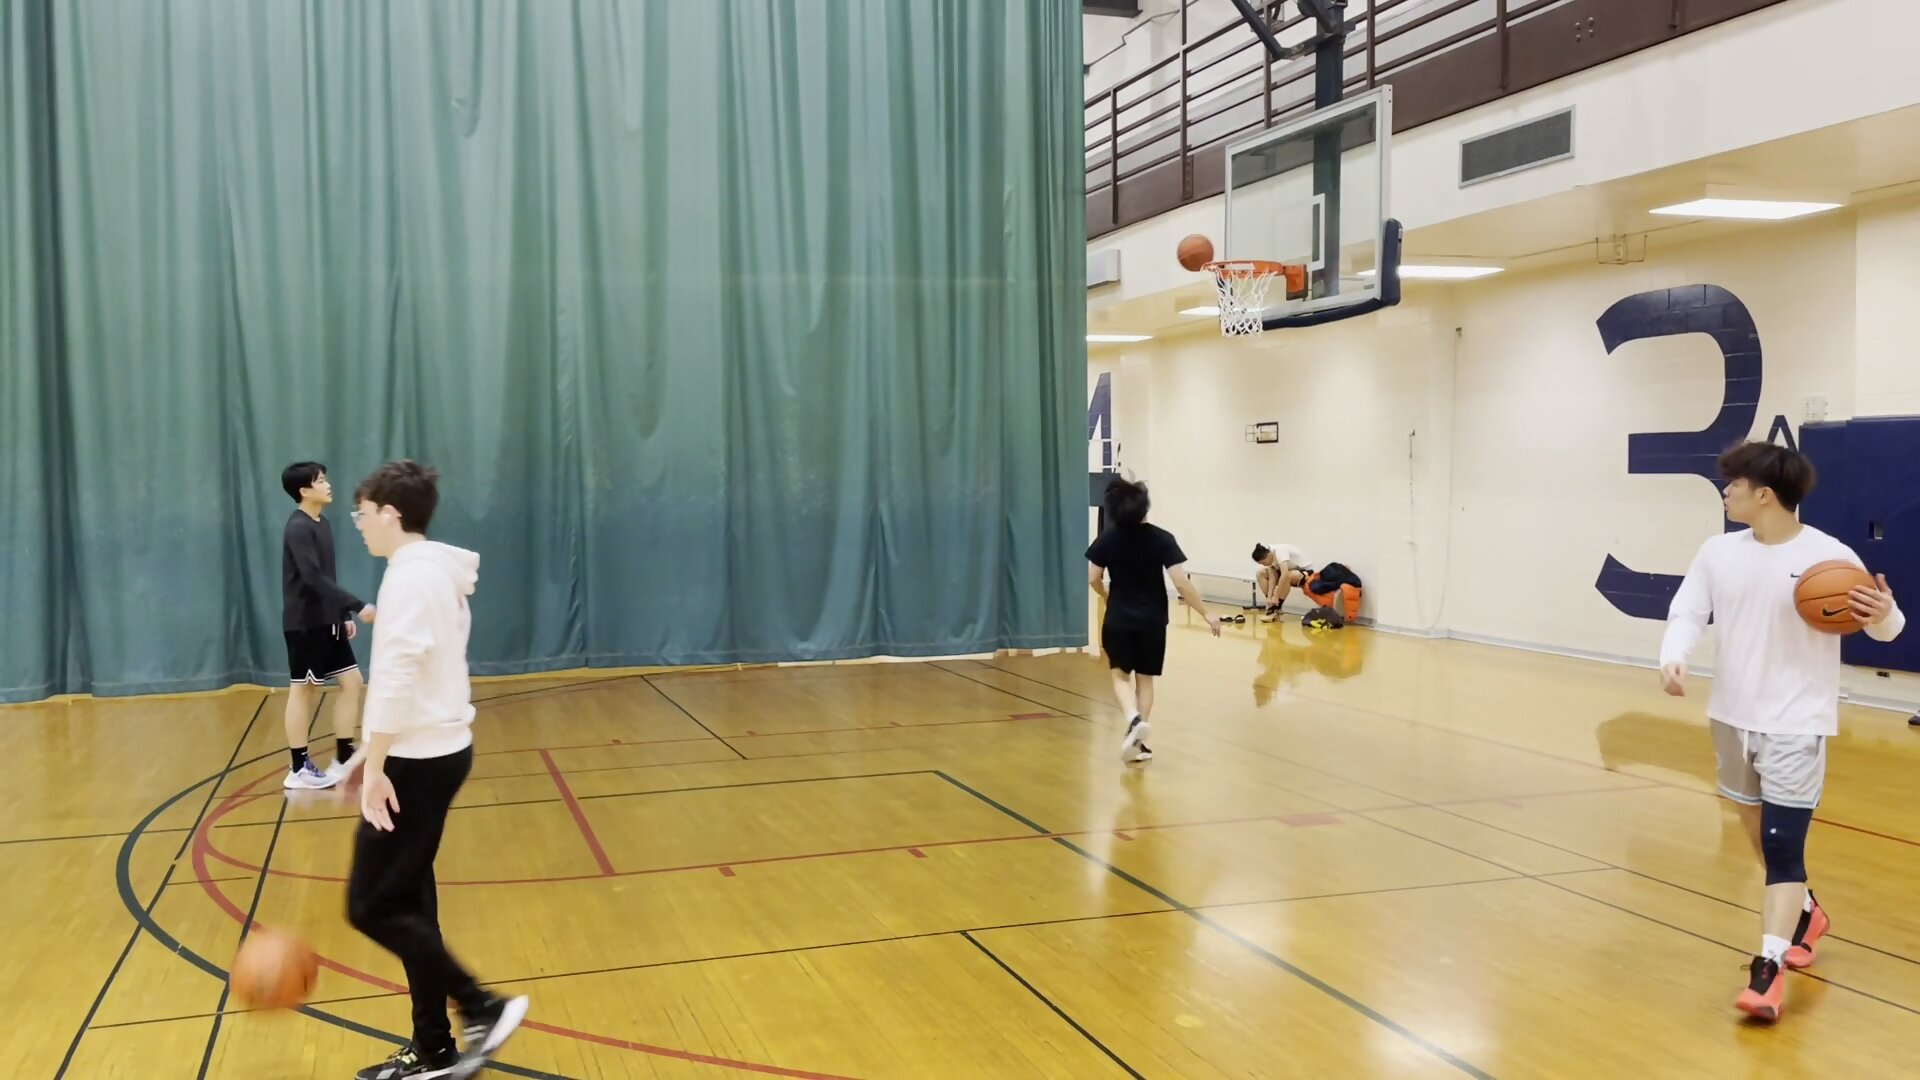ball: (229, 932, 329, 1030), (1787, 558, 1881, 639), (1174, 234, 1220, 274)
net: (1212, 312, 1273, 343)
player: (1663, 446, 1891, 1030), (317, 460, 530, 1078), (272, 458, 381, 805), (1082, 474, 1203, 770), (1245, 539, 1315, 632)
rim: (1206, 253, 1286, 282)
